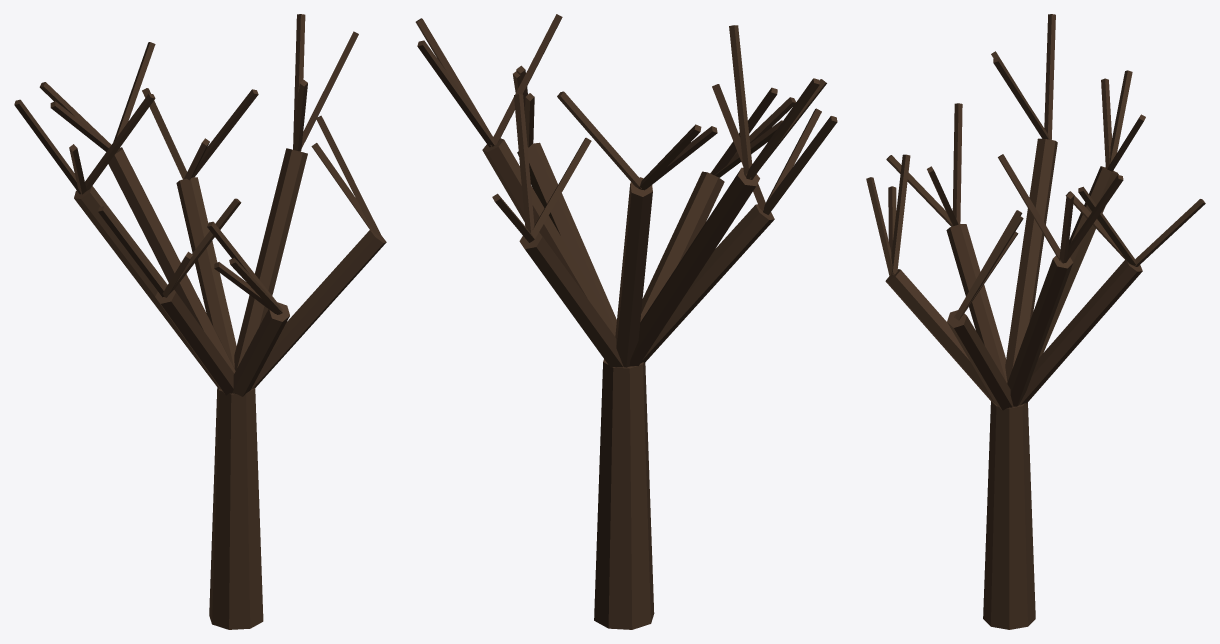
Rendered from landscape.tree.winter_medium.glb.
The picture shows the model from 3 angles, left to right: view 1: azimuth 30°, elevation 25°; view 2: azimuth 150°, elevation 25°; view 3: azimuth 270°, elevation 25°; orthographic projection. The views are drawn at different scales.
Visible parts, largest first — view 1: main__bark; view 2: main__bark; view 3: main__bark.
Part boxes in pixels (<box>): main__bark: <box>14,14,386,629</box>; main__bark: <box>415,14,837,629</box>; main__bark: <box>866,14,1205,629</box>.
Bounding box in the file's own units: 5.04 × 7.49 × 4.45.
